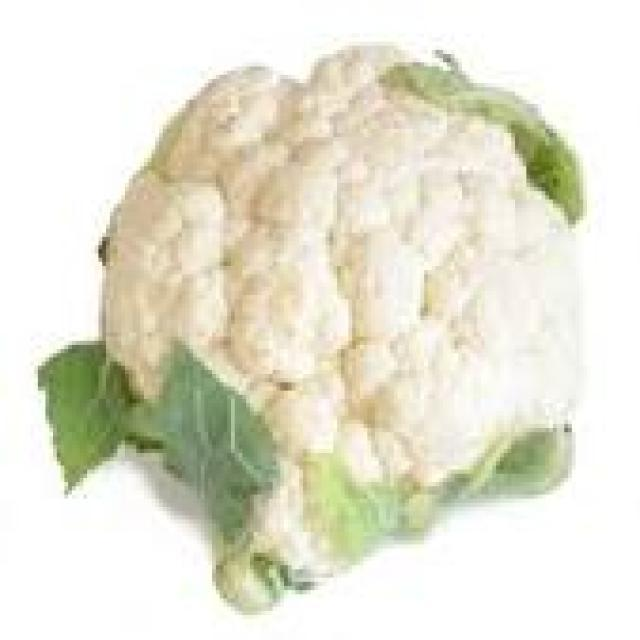Cauliflower: (19, 17, 610, 616)
